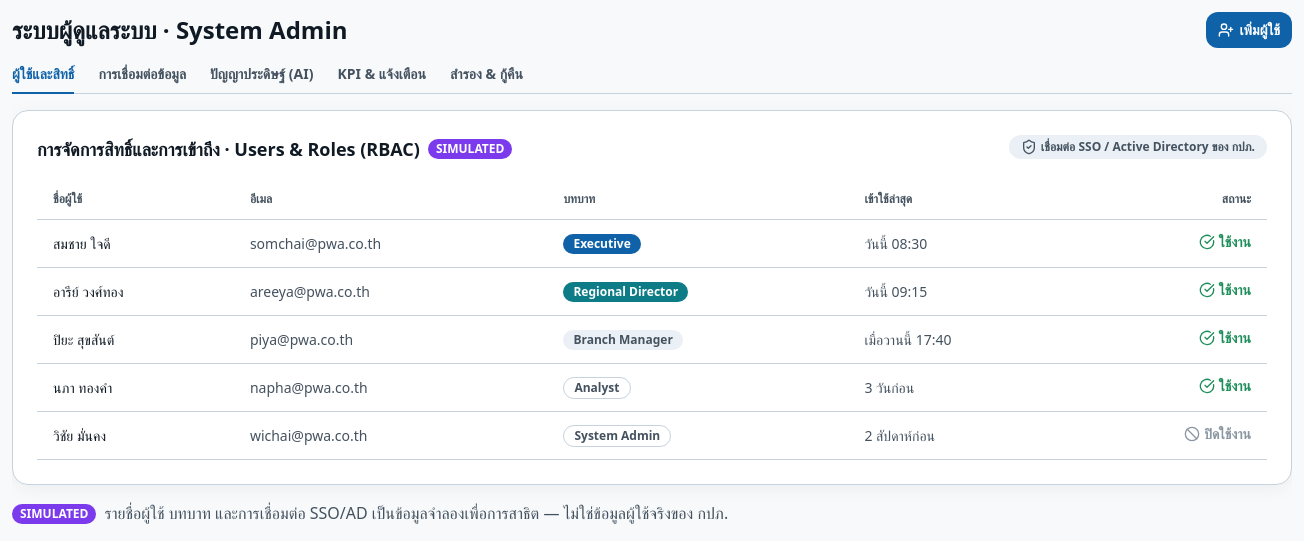
SystemAdminScreen › switches to a proposal-only tab and back
The width and height of the screenshot is (1304, 541).
Click the tab "การเชื่อมต่อข้อมูล".
click(142, 79)  # box [98, 64, 186, 94]
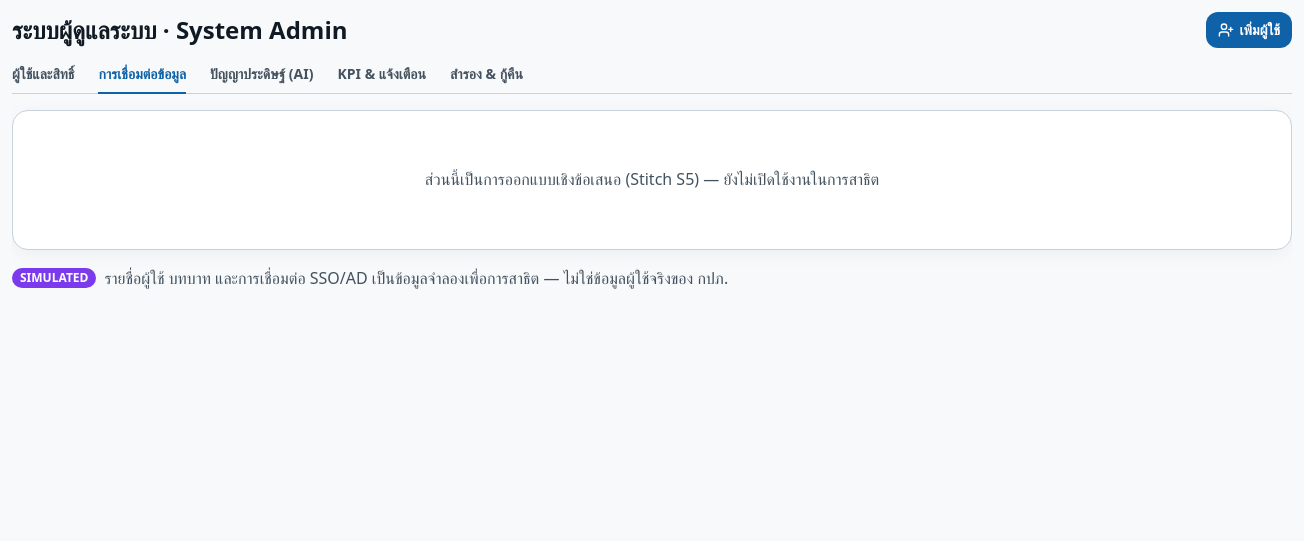
Result: the element with test id "users-roles" is gone
Result: the element with test id "admin-proposal-note" is shown at [12, 110, 1292, 250]
Click the tab "ผู้ใช้และสิทธิ์".
click(43, 79)  # box [12, 64, 74, 94]
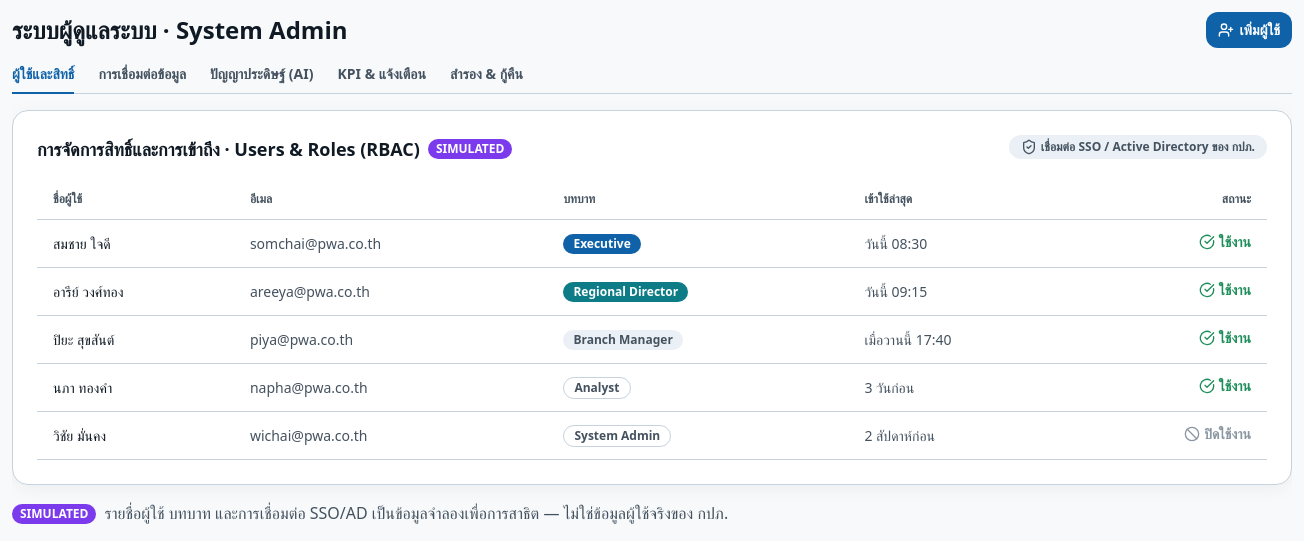
Result: the element with test id "users-roles" is shown
